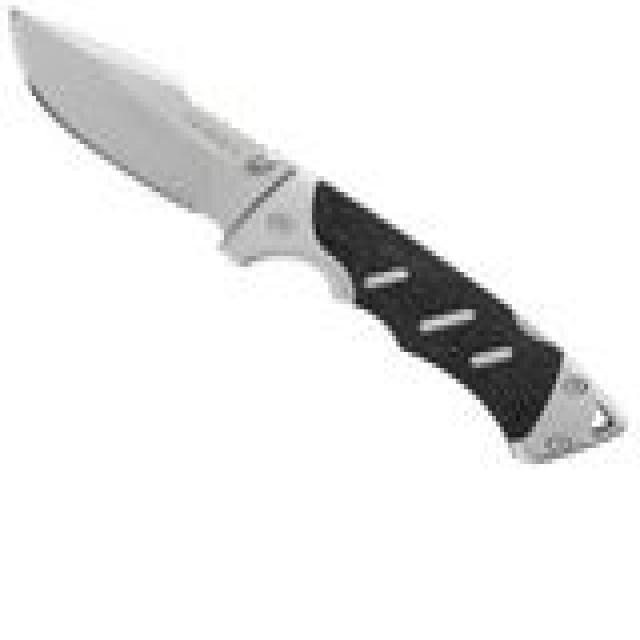Knife: (13, 8, 631, 458)
